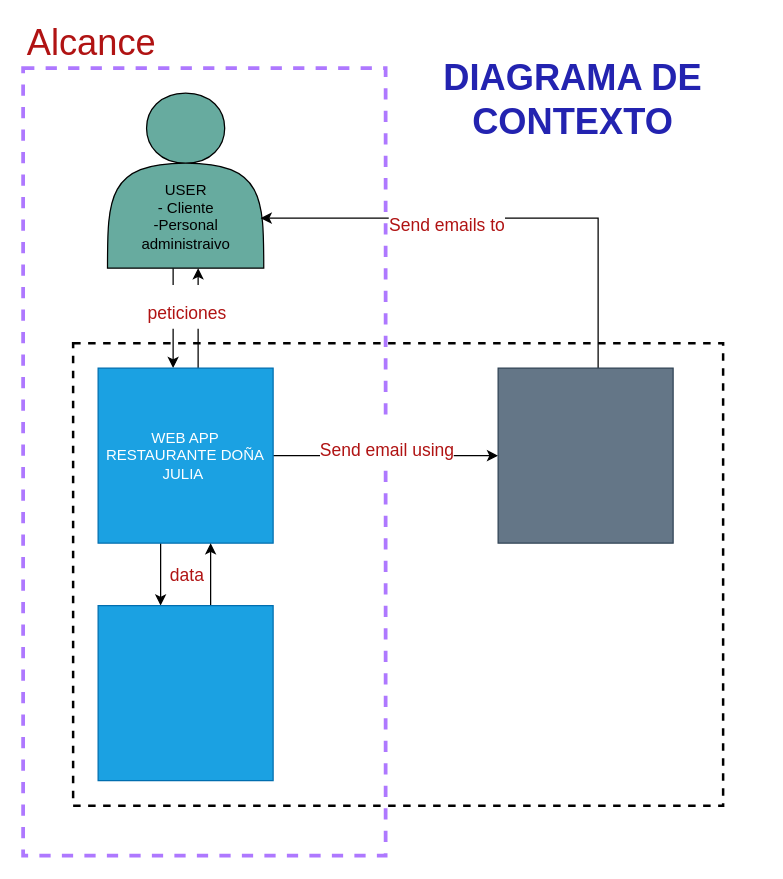
The diagram is 783 pixels wide and 879 high, and some of its shapes have lost their labels. The centre of each missing label's shape, as x and y in pixels:
"Data Base Server Store data from WebApp" belongs at point (185, 692).
"E-MAIL SYSTEM (SaS)" belongs at point (585, 455).
